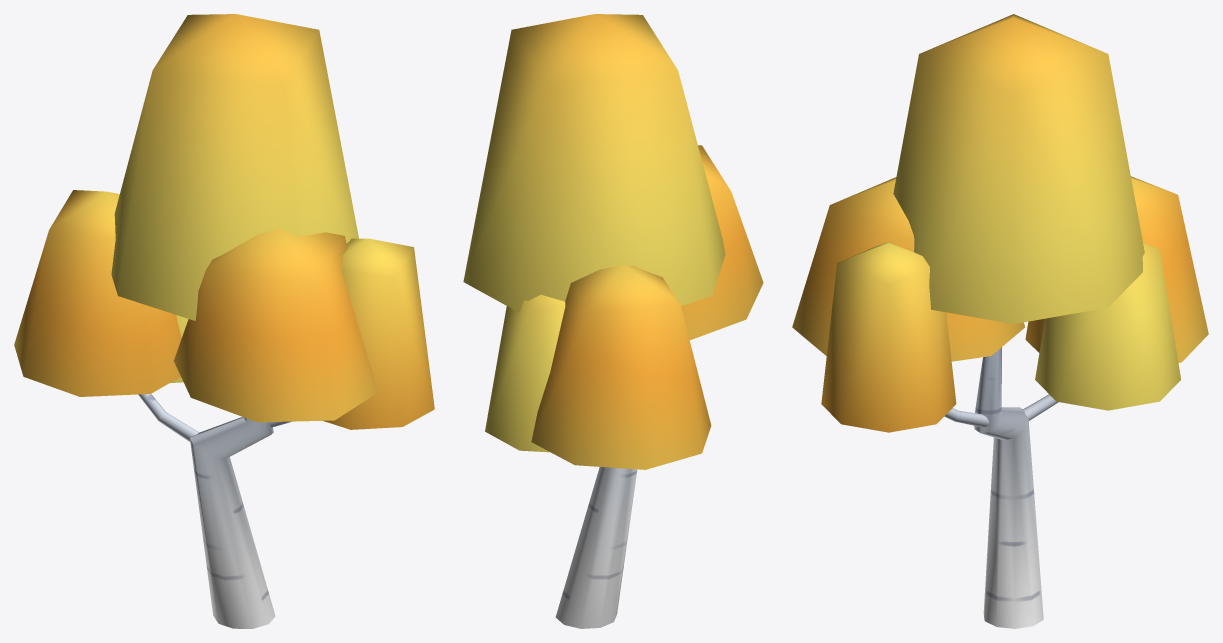
Rendered from Low_Poly_Forest_treeBlob03.glb.
3 views of the same model, side by side, from view 1: azimuth 30°, elevation 25°; view 2: azimuth 150°, elevation 25°; view 3: azimuth 270°, elevation 25° (orthographic).
Visible parts, largest first — view 1: leaf_5, leaf, leaf_3, leaf_4, bark; view 2: leaf_5, leaf_3, bark, leaf_2, leaf; view 3: leaf_5, leaf_4, leaf_2, bark, leaf, leaf_3.
Boxes of the visible parts, x1=… form: leaf_5: x1=111, y1=14, x2=358, y2=320; leaf: x1=174, y1=228, x2=376, y2=422; leaf_3: x1=14, y1=190, x2=181, y2=396; leaf_4: x1=323, y1=238, x2=434, y2=429; bark: x1=138, y1=394, x2=291, y2=628; leaf_5: x1=463, y1=14, x2=725, y2=312; leaf_3: x1=531, y1=265, x2=711, y2=469; bark: x1=555, y1=467, x2=637, y2=628; leaf_2: x1=485, y1=294, x2=565, y2=452; leaf: x1=681, y1=145, x2=763, y2=340; leaf_5: x1=893, y1=14, x2=1144, y2=323; leaf_4: x1=821, y1=242, x2=956, y2=432; leaf_2: x1=1035, y1=242, x2=1181, y2=410; bark: x1=944, y1=347, x2=1058, y2=628; leaf: x1=792, y1=177, x2=1025, y2=361; leaf_3: x1=1025, y1=176, x2=1208, y2=362.
Bounding box in the file's own units: 5.1 × 10.21 × 6.49.
1 material, 1 textured.
